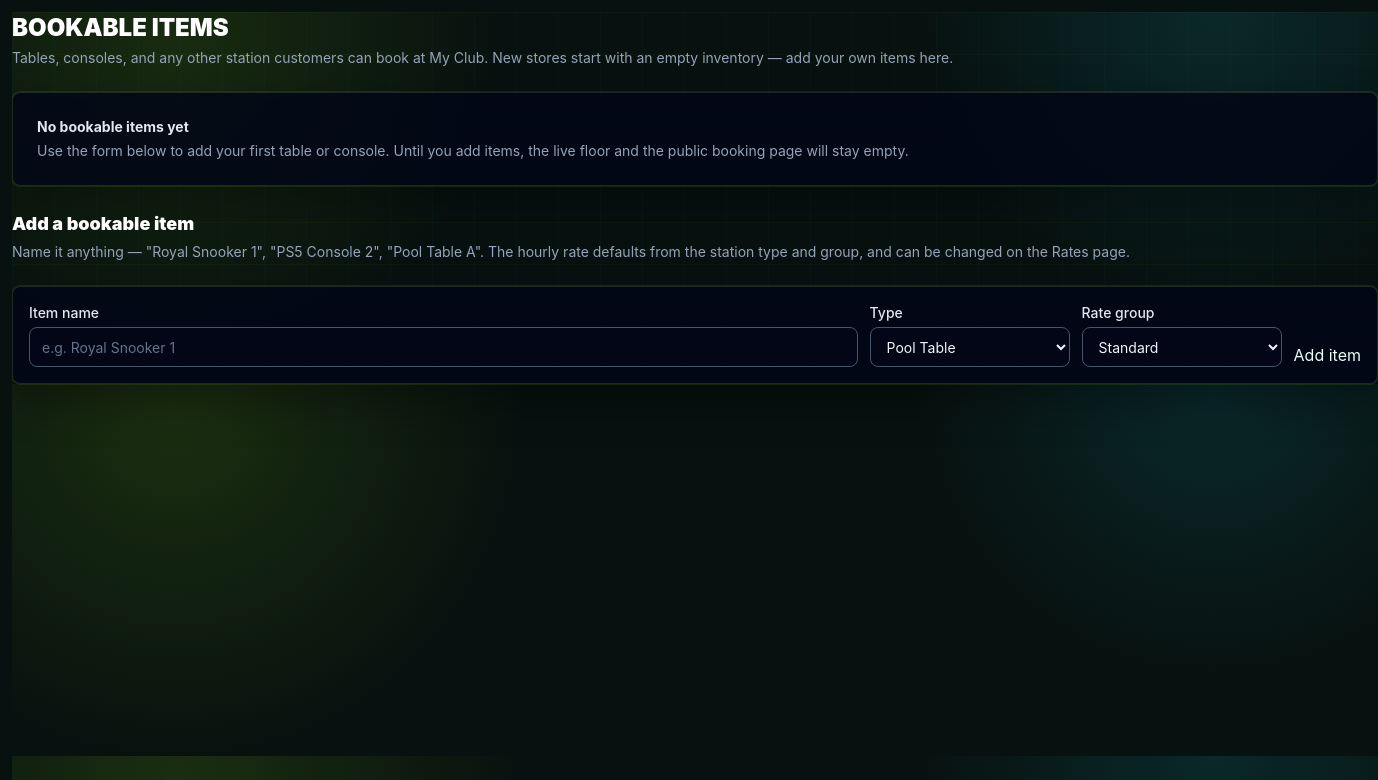
Test: BookableItemsPage › shows snackbar message after action
Type "New Table" into the field labelled "Item name" at (443, 347), box x1=29 y1=327 x2=858 y2=367
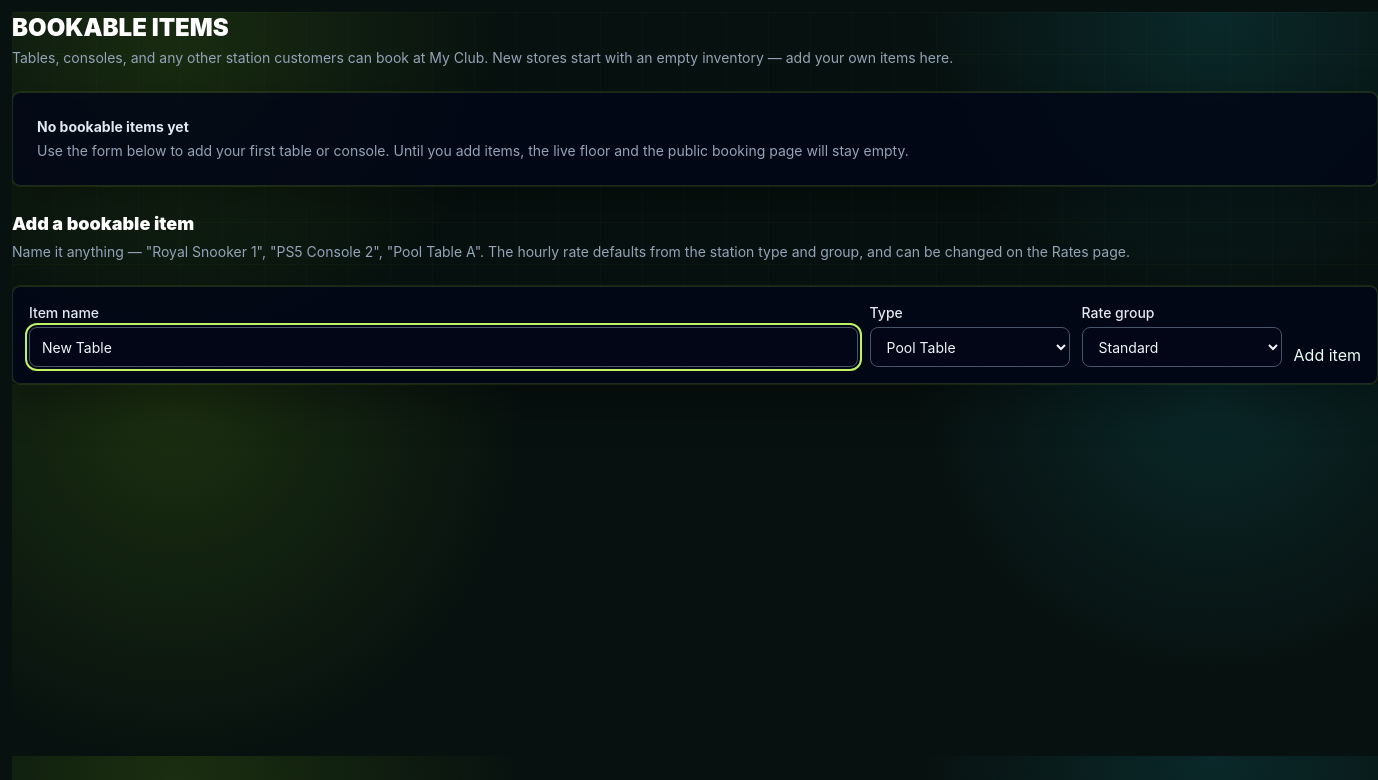
Click the button "Add item" at (1327, 355), box x1=1294 y1=343 x2=1361 y2=367
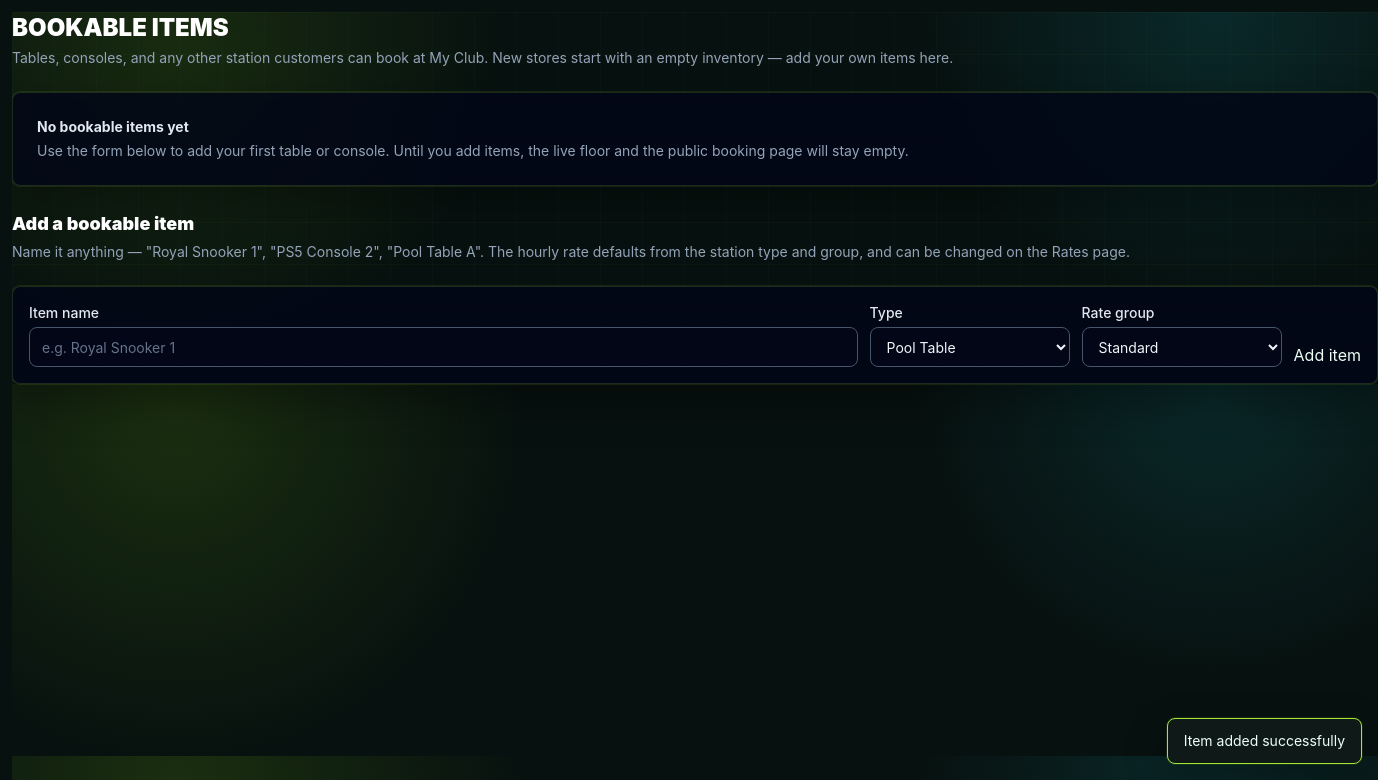
Now the text "Item added successfully" is shown, box x1=1167 y1=718 x2=1362 y2=764
